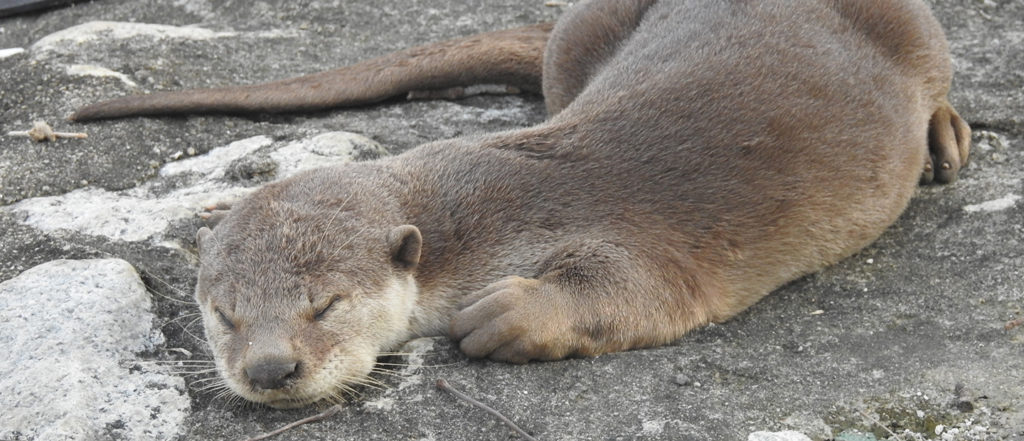otter: (66, 7, 987, 427)
